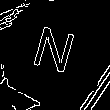N_S: (29, 23, 80, 83)
